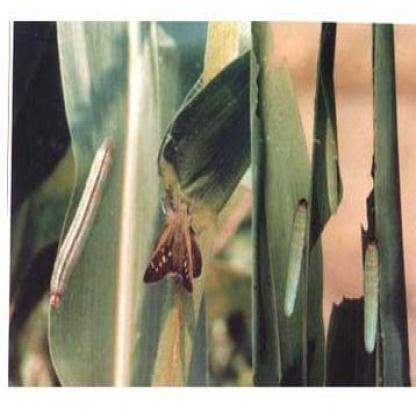armyworm: (46, 134, 118, 312), (144, 187, 205, 299), (280, 197, 314, 320), (362, 236, 385, 358)
